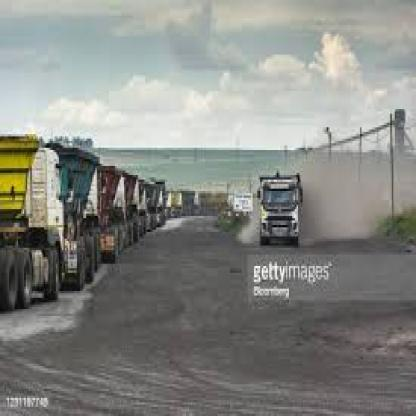dump_truck: (62, 136, 180, 273), (2, 134, 71, 284), (240, 157, 314, 280)
